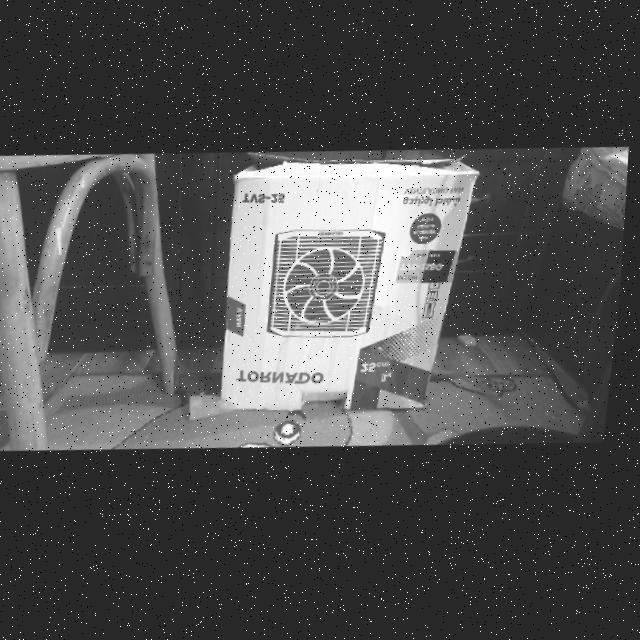document: (219, 158, 478, 411)
